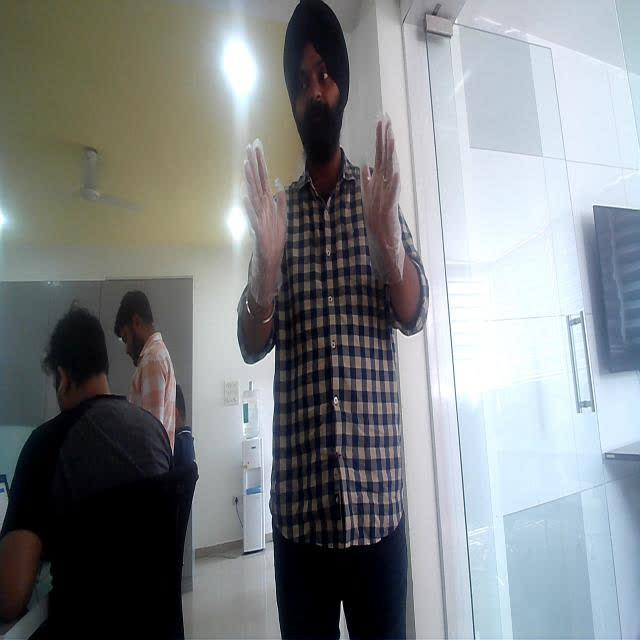with_gloves: (227, 143, 280, 252), (356, 132, 404, 228)
